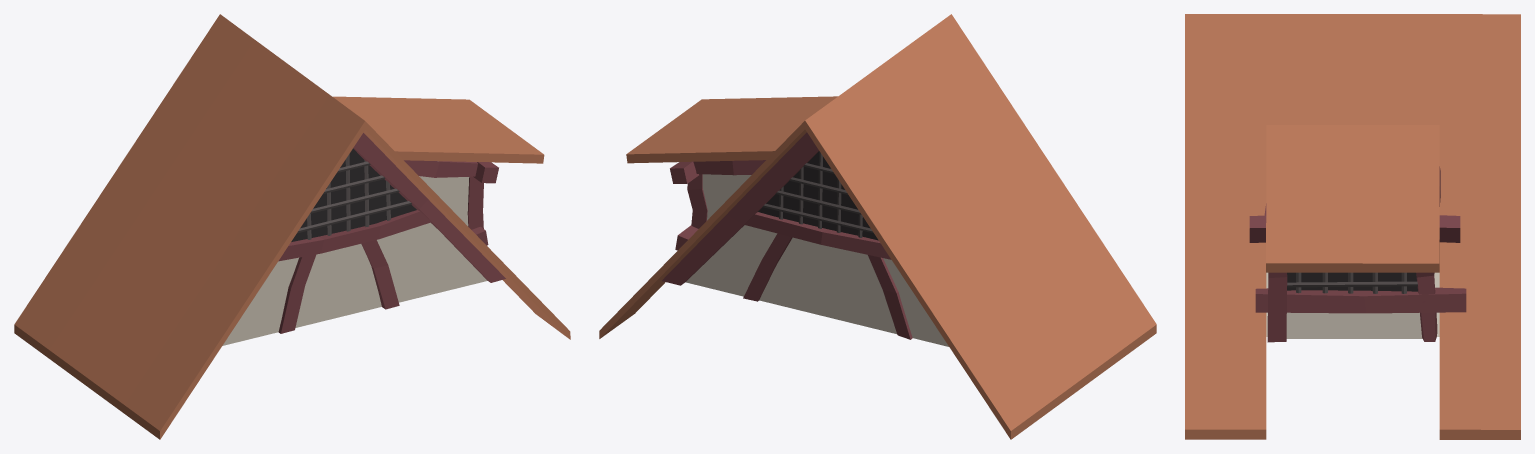
Rendered from Mountain_Roof_Small.fbx.
3 views of the same model, side by side, from view 1: azimuth 30°, elevation 25°; view 2: azimuth 150°, elevation 25°; view 3: azimuth 270°, elevation 25° (orthographic). The views are drawn at different scales.
Parts seen in each view (by area): view 1: Mountain_Roof_Small; view 2: Mountain_Roof_Small; view 3: Mountain_Roof_Small.
Boxes of the visible parts, x1,y1,x2,y2 form: Mountain_Roof_Small: (14,14,570,439); Mountain_Roof_Small: (599,14,1156,439); Mountain_Roof_Small: (1185,14,1520,439).
Size of the model in its own units: 223 by 134 by 137.
